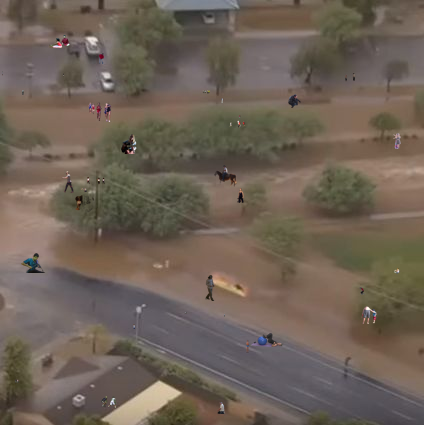Human: (214, 165, 237, 187), (75, 193, 99, 214), (88, 101, 112, 122), (21, 253, 46, 273), (250, 333, 284, 347), (379, 133, 401, 149), (121, 134, 137, 154), (361, 306, 377, 324), (49, 35, 70, 48), (62, 171, 74, 193), (205, 275, 215, 301), (101, 396, 117, 408), (288, 94, 301, 108), (229, 120, 248, 128), (87, 177, 105, 185), (237, 188, 244, 203), (217, 402, 225, 414), (345, 73, 355, 82), (392, 268, 402, 274), (99, 53, 104, 64), (359, 287, 365, 295), (218, 28, 233, 31), (246, 340, 249, 353), (202, 90, 210, 94), (13, 379, 19, 383), (81, 188, 87, 192), (239, 115, 245, 119), (221, 98, 223, 104), (22, 90, 24, 95), (133, 324, 135, 329), (2, 71, 3, 76), (63, 73, 64, 77), (185, 312, 187, 314), (224, 314, 225, 317)
